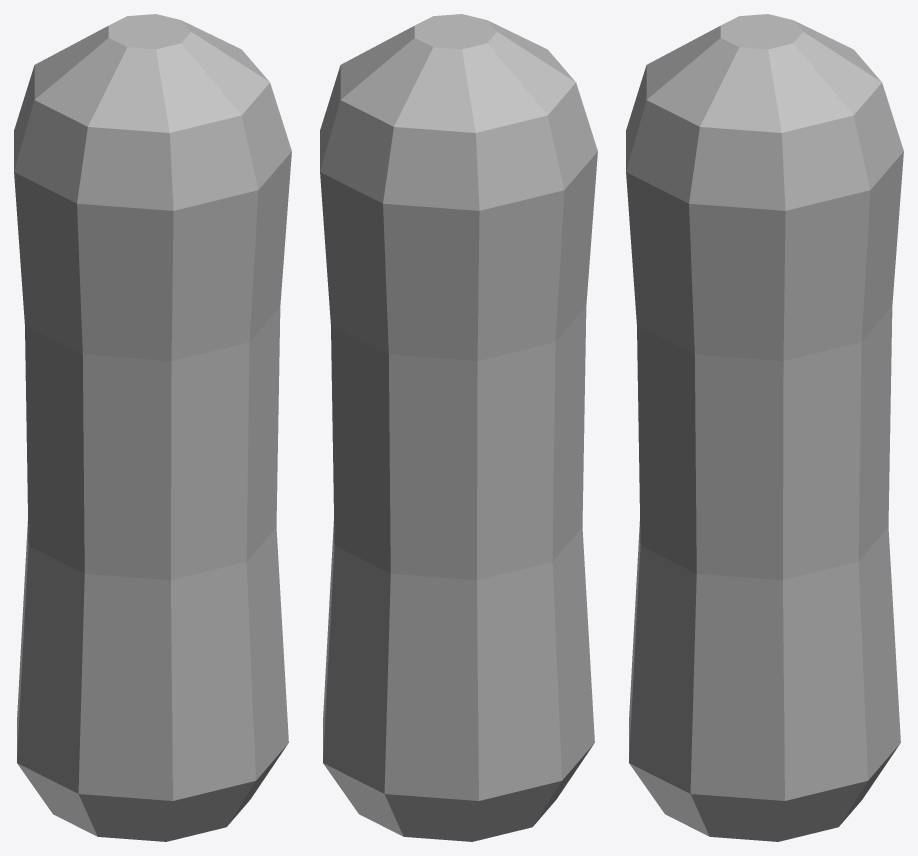
Rendered from Cucumber_02.fbx.
3 views of the same model, side by side, from view 1: azimuth 30°, elevation 25°; view 2: azimuth 150°, elevation 25°; view 3: azimuth 270°, elevation 25° (orthographic).
Parts seen in each view (by area): view 1: Cucumber_02; view 2: Cucumber_02; view 3: Cucumber_02.
Boxes of the visible parts, bbox=[...] form: Cucumber_02: bbox=[14, 14, 291, 841]; Cucumber_02: bbox=[320, 14, 597, 841]; Cucumber_02: bbox=[626, 14, 903, 841].
Bounding box in the file's own units: 0.0521 × 0.1617 × 0.0513.
